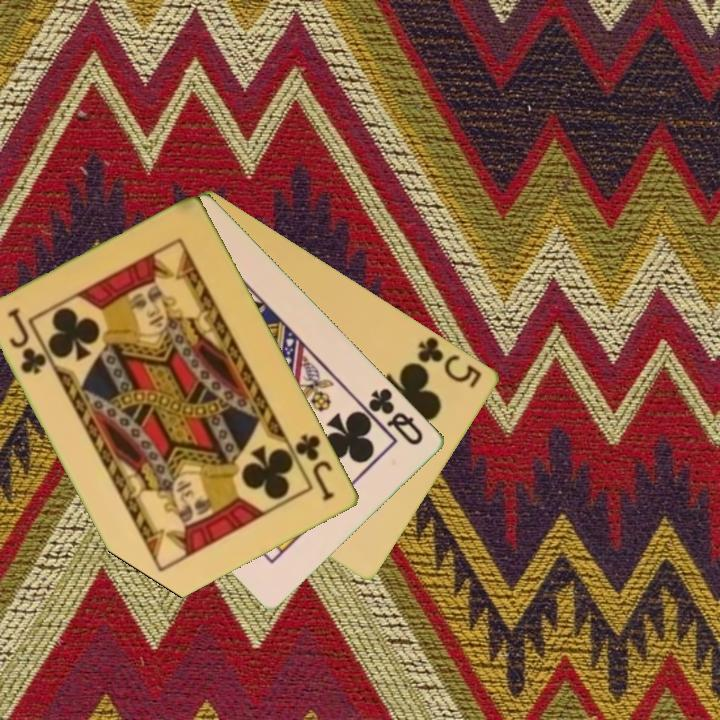5c: (414, 333, 486, 391)
Jc: (292, 430, 338, 504), (4, 304, 50, 378)
Qc: (357, 384, 427, 449)
